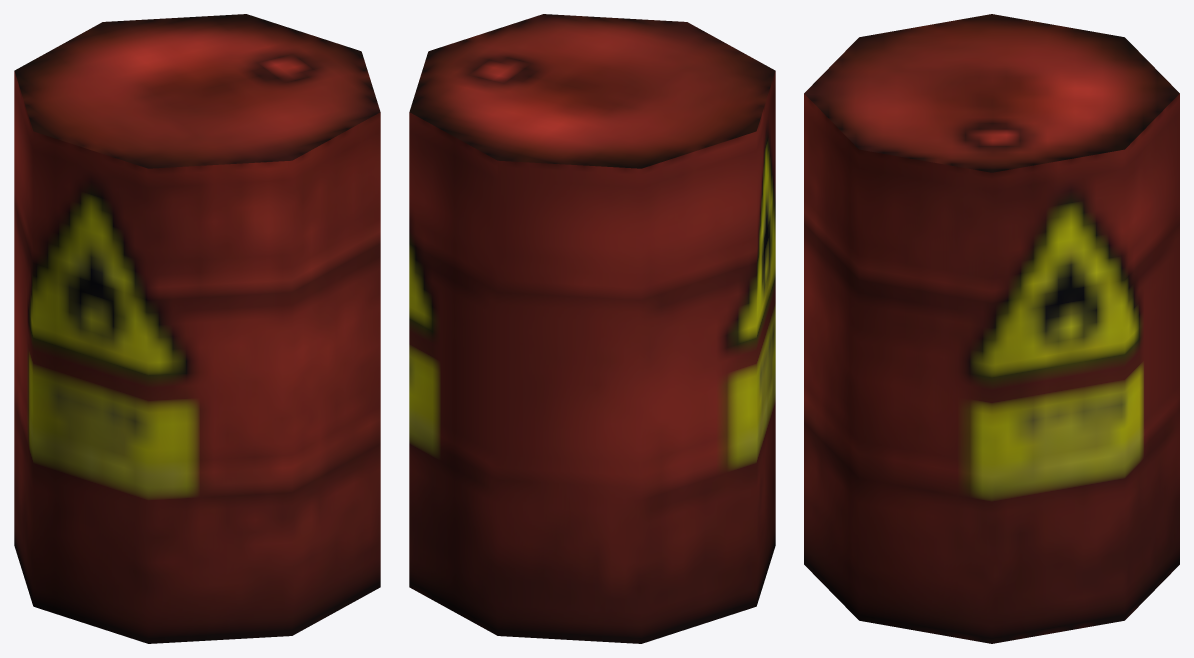
File: barrel_01.FBX
The picture shows the model from 3 angles, left to right: view 1: azimuth 30°, elevation 25°; view 2: azimuth 150°, elevation 25°; view 3: azimuth 270°, elevation 25°; orthographic projection.
Parts seen in each view (by area): view 1: barrel_01; view 2: barrel_01; view 3: barrel_01.
Part boxes in pixels (x1,y1,x2,y2): barrel_01: [14, 14, 380, 643]; barrel_01: [409, 14, 775, 643]; barrel_01: [804, 14, 1179, 643].
Bounding box in the file's own units: 106 × 146 × 106.
